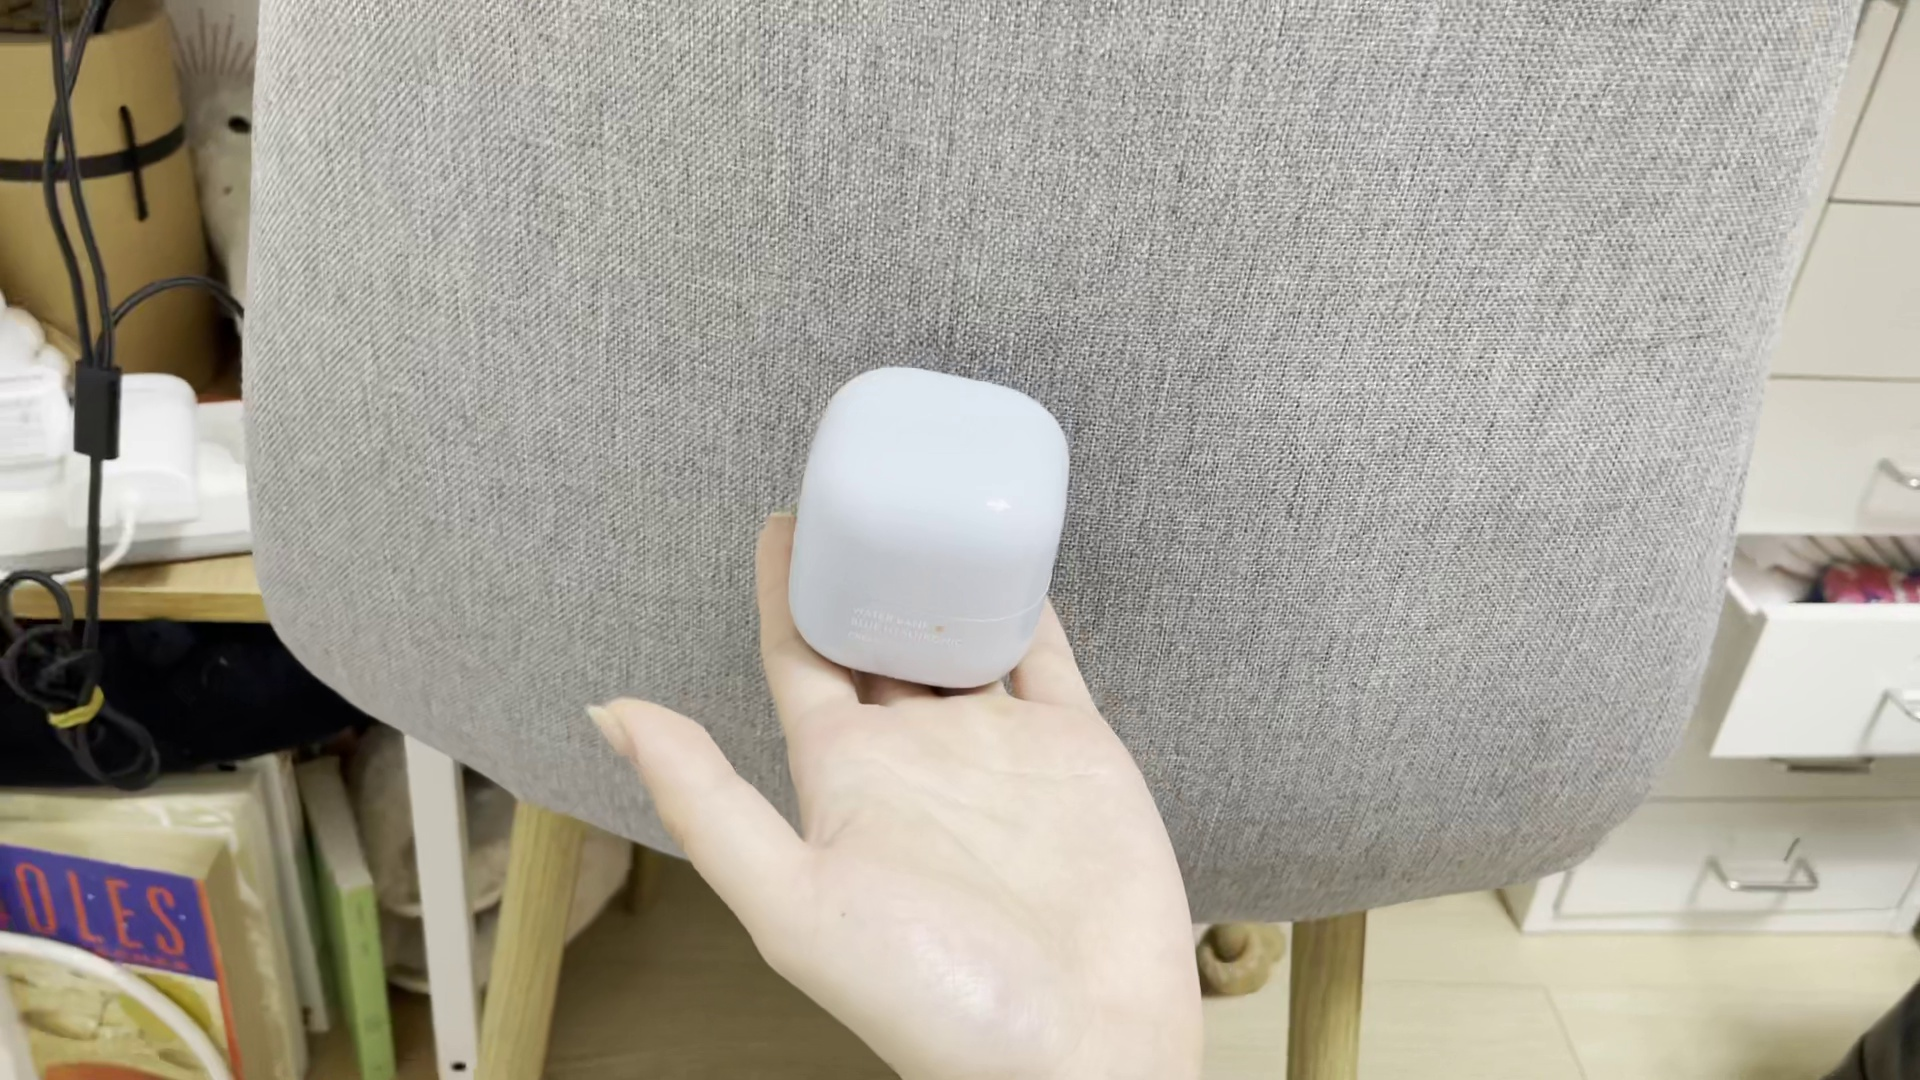cream: (789, 364, 1062, 688)
